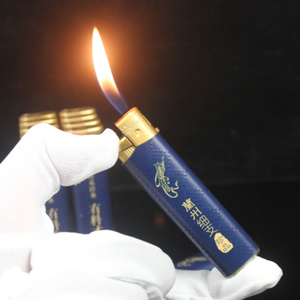Fire: (85, 26, 129, 115)
